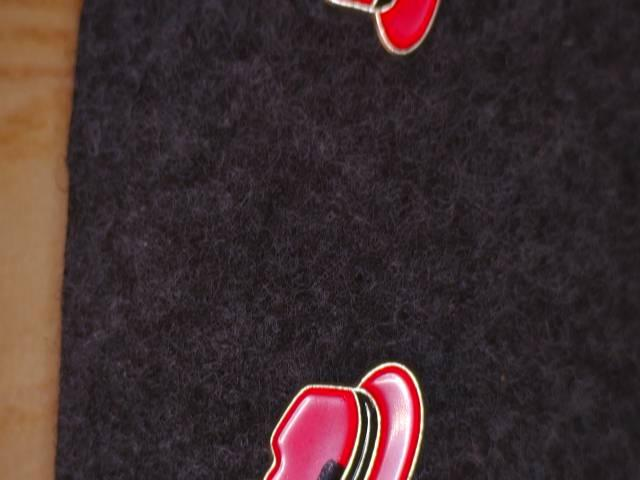Red-Hat: (251, 345, 441, 480), (309, 0, 472, 83)
Scratch: (312, 451, 352, 480)
